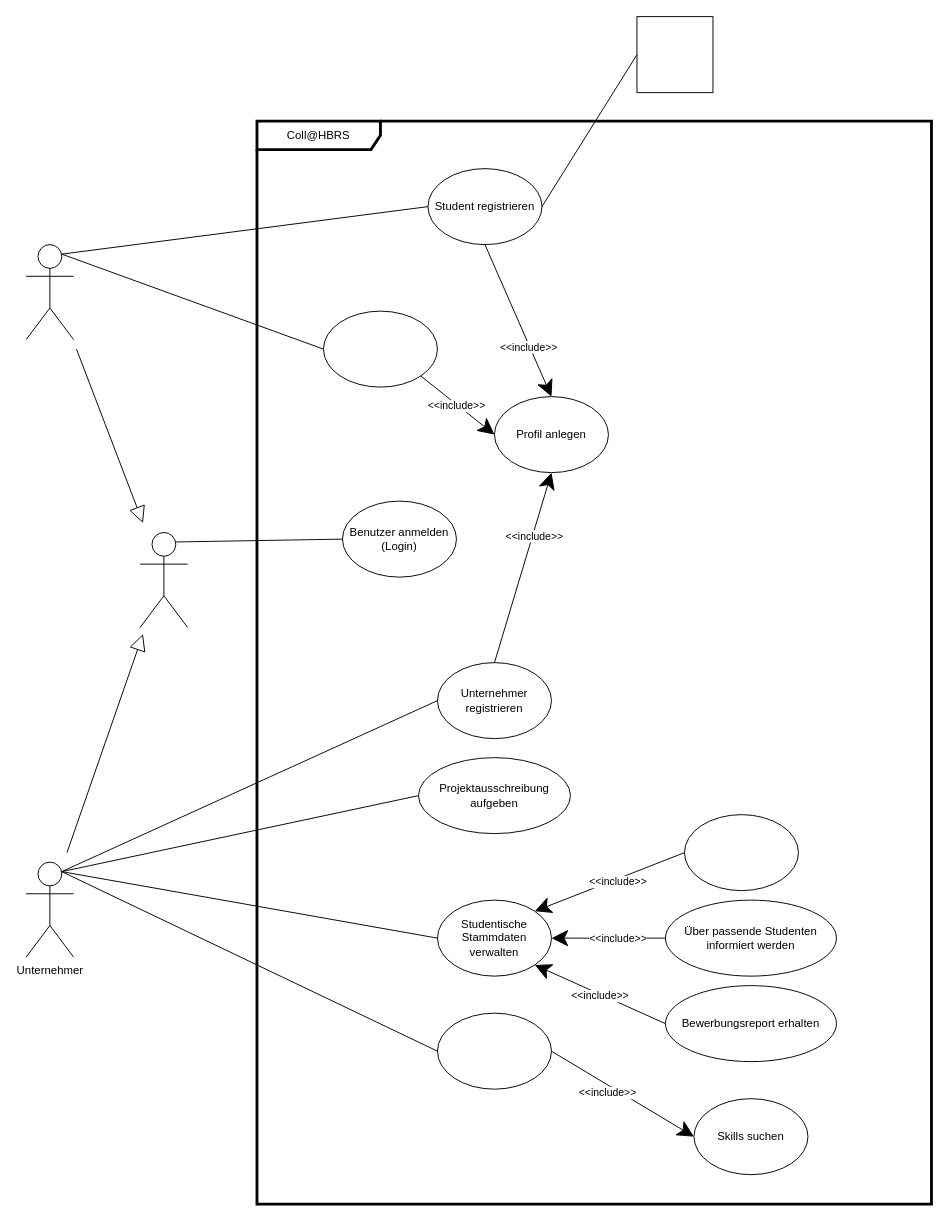
The diagram is 949 pixels wide and 1222 high, and some of its shapes have lost their labels. The shapes that lost their labels are listed below. From the top down, each one's centre as x and y in pixels, then its label:
At (674,54): "SIS".
At (49,292): "Student".
At (380,348): "Skills verwalten".
At (163,579): "User".
At (741,852): "Bewerbungen verwalten".
At (494,1050): "Projekt planen".
